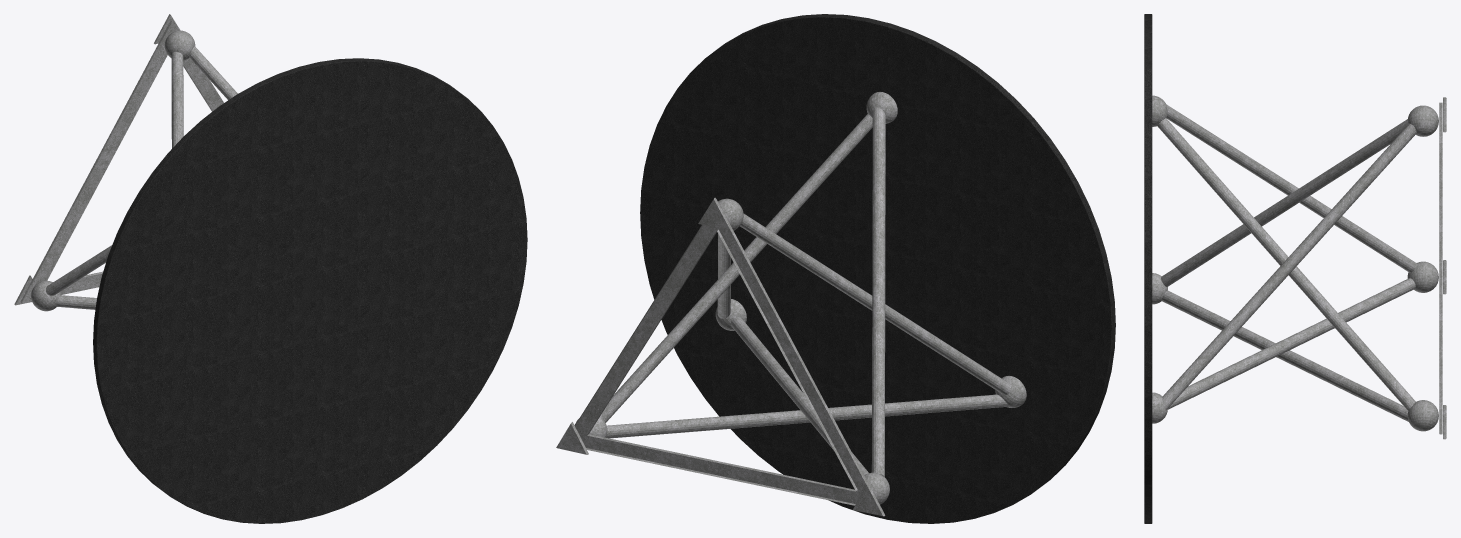
File: Table Eichholtz PEBBLE BEACH N110321.obj
The picture shows the model from 3 angles, left to right: view 1: azimuth 30°, elevation 25°; view 2: azimuth 150°, elevation 25°; view 3: azimuth 270°, elevation 25°; orthographic projection. The views are drawn at different scales.
Parts seen in each view (by area): view 1: ChamferCyl001; view 2: ChamferCyl001; view 3: ChamferCyl001.
Part boxes in pixels (left/top/right/bottom): ChamferCyl001: left=14, top=14, right=527, bottom=523; ChamferCyl001: left=556, top=14, right=1115, bottom=523; ChamferCyl001: left=1144, top=14, right=1446, bottom=523.
Size of the model in its own units: 512 by 511 by 303.
